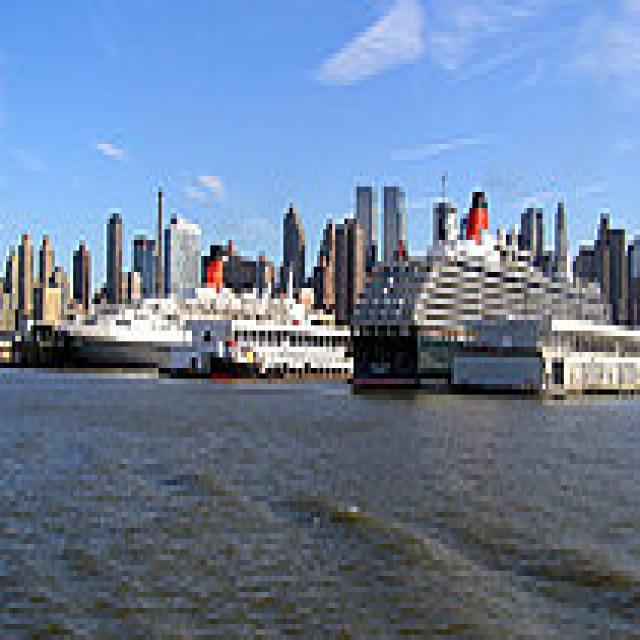Cruise: (344, 181, 616, 384)
